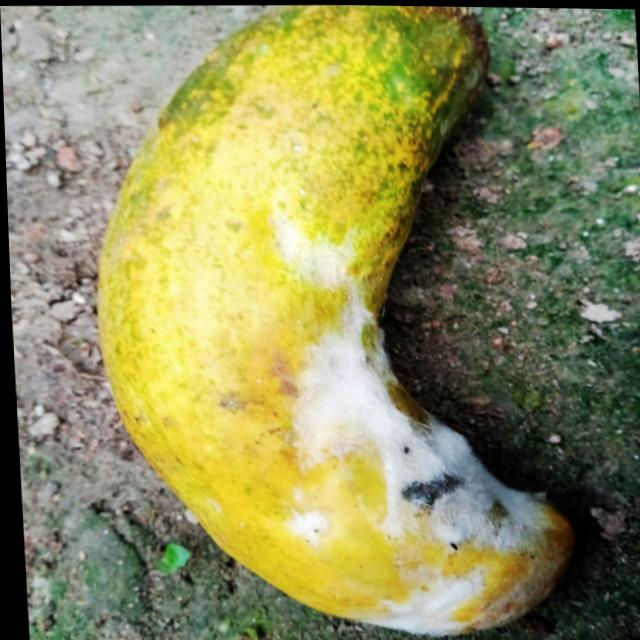Pythium-Fruit-Rot: (250, 195, 555, 640)
